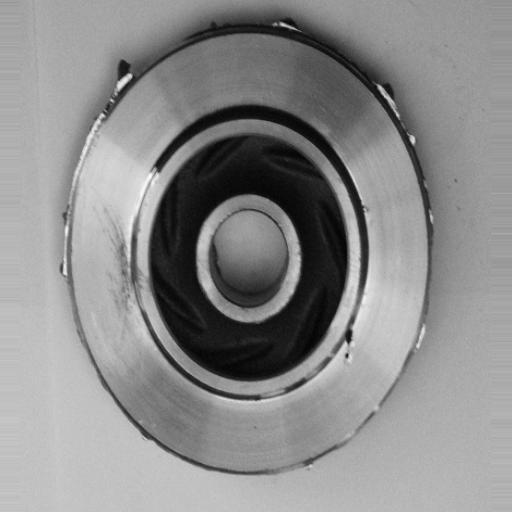casting_with_burr: (58, 11, 437, 479)
crack: (338, 318, 363, 374)
stain: (94, 203, 158, 331)
